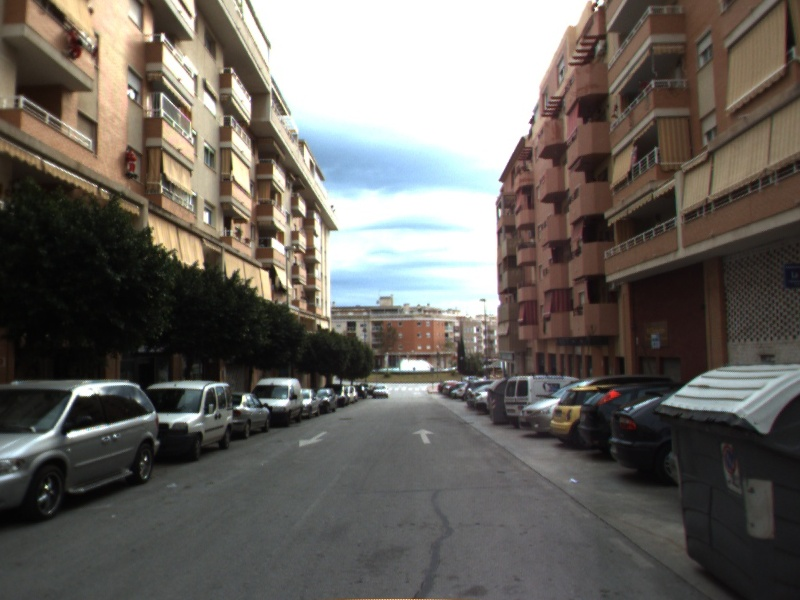STRAIGHT: (410, 426, 436, 445)
